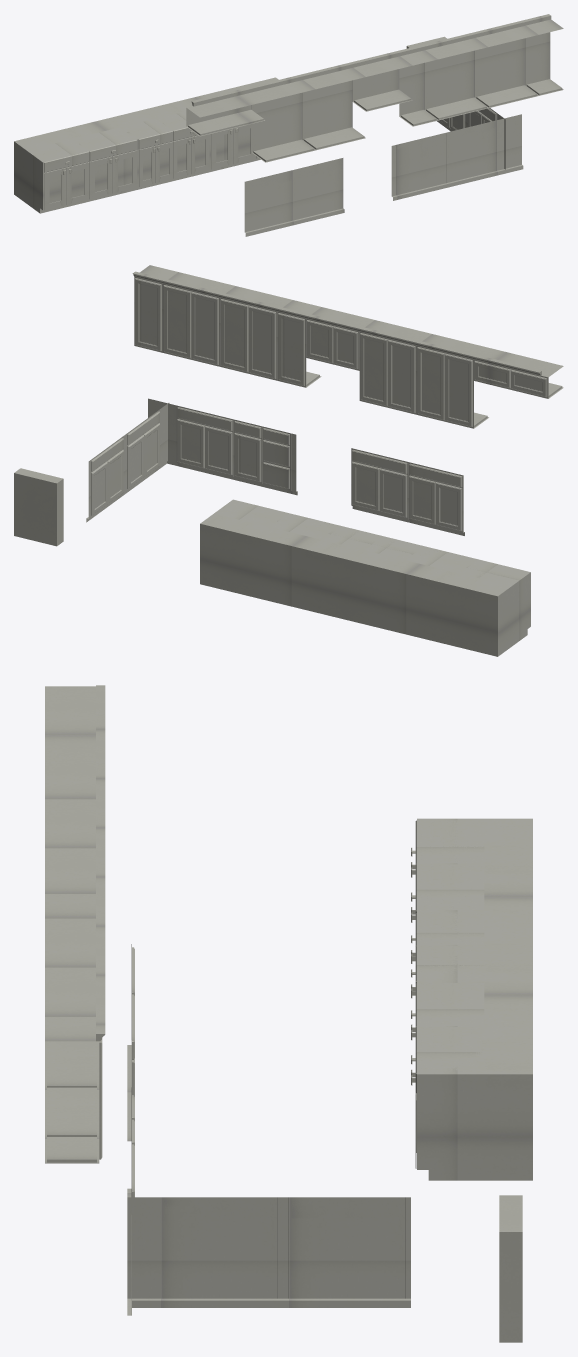
Rendered from cabinets_bolder.glb.
3 renders of one model, top to bottom at view 1: azimuth 30°, elevation 25°; view 2: azimuth 150°, elevation 25°; view 3: azimuth 270°, elevation 25°, orthographic. The views are drawn at different scales.
Parts seen in each view (by area): view 1: Kitchen Cabinets Bolder; view 2: Kitchen Cabinets Bolder; view 3: Kitchen Cabinets Bolder.
Boxes of the visible parts, x1,y1,x2,y2 form: Kitchen Cabinets Bolder: (14,14,563,236); Kitchen Cabinets Bolder: (14,265,563,656); Kitchen Cabinets Bolder: (45,685,532,1342).
Size of the model in its own units: 8.5 by 2.93 by 4.2.
Materials: 1 (1 with a texture image).
